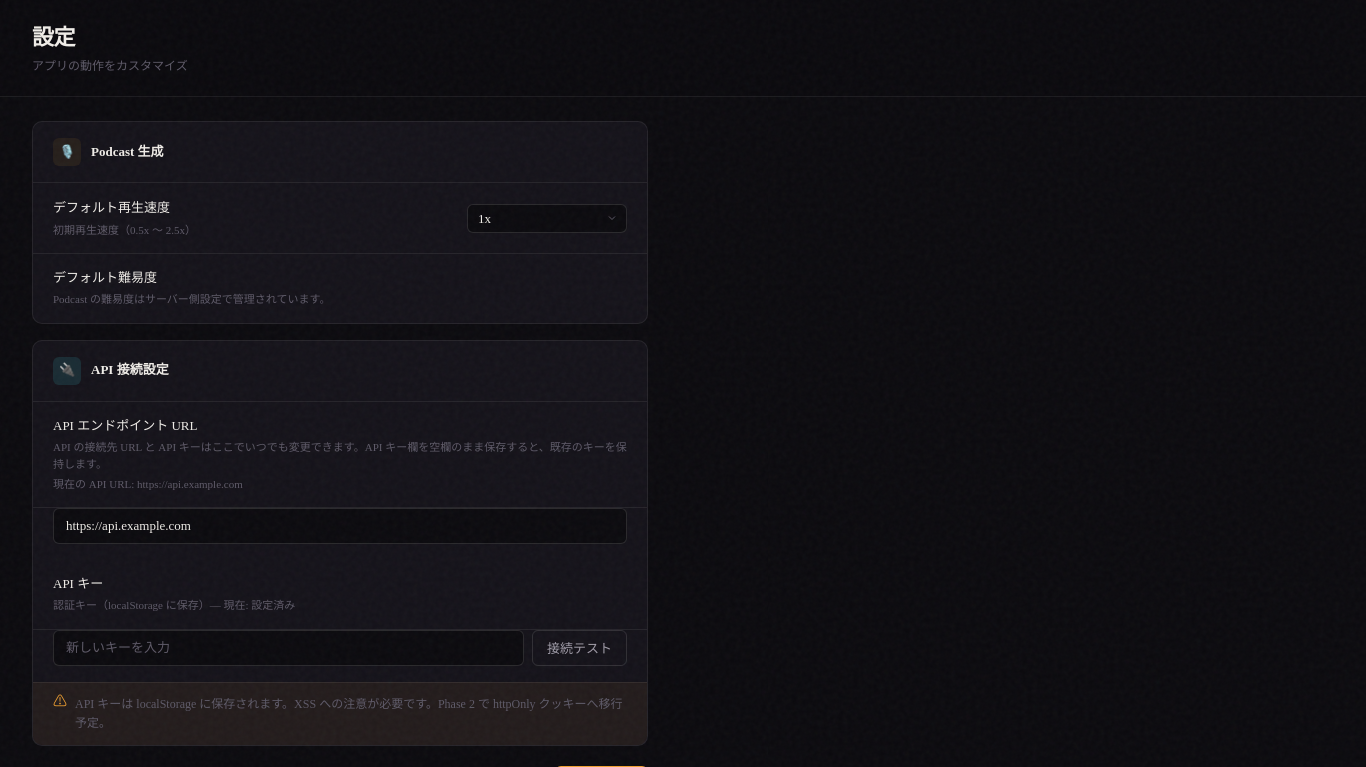
it: SettingsPage — connection test › Given connection test succeeds, shows success indicator
The image size is (1366, 767).
Click the button "接続テスト".
click(580, 648)  # box 532,630 -> 627,666
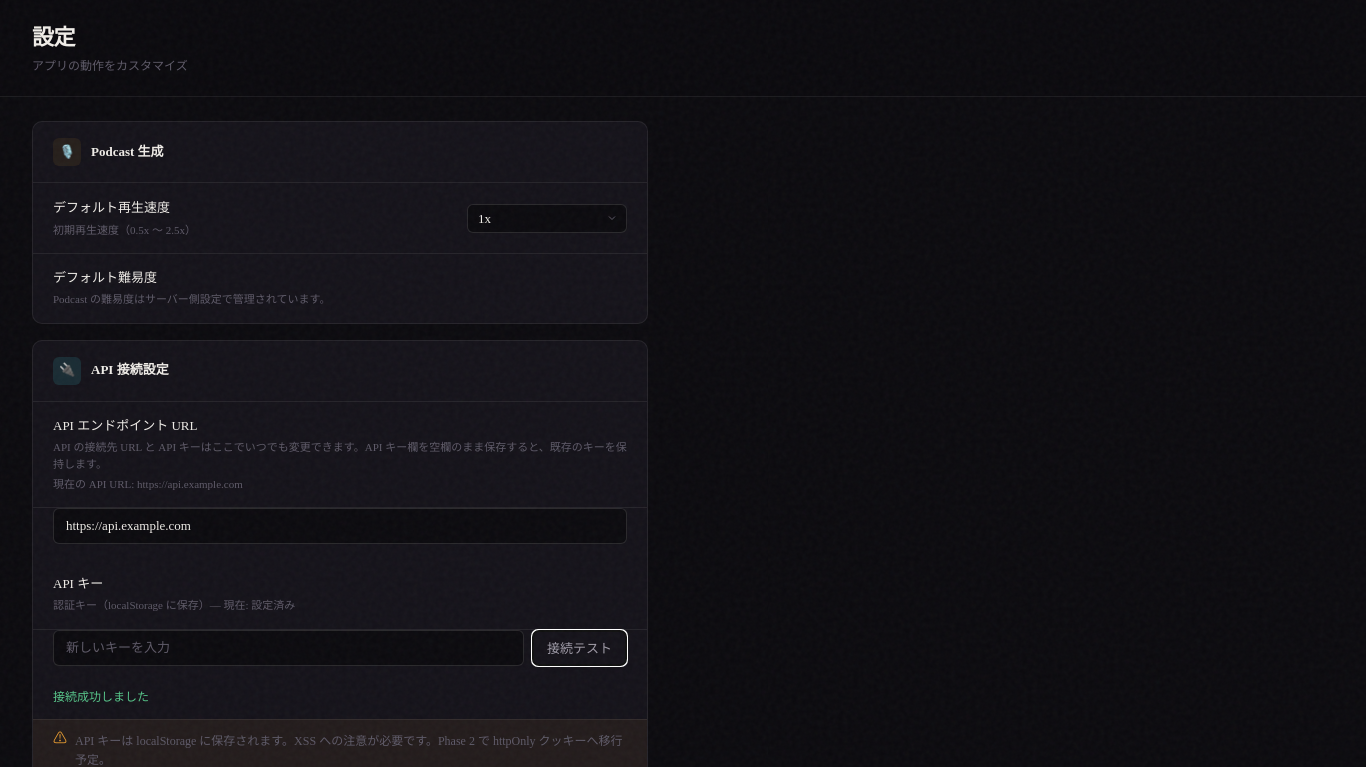
Expected: the text "接続成功しました" is shown, 53,690 -> 149,704
